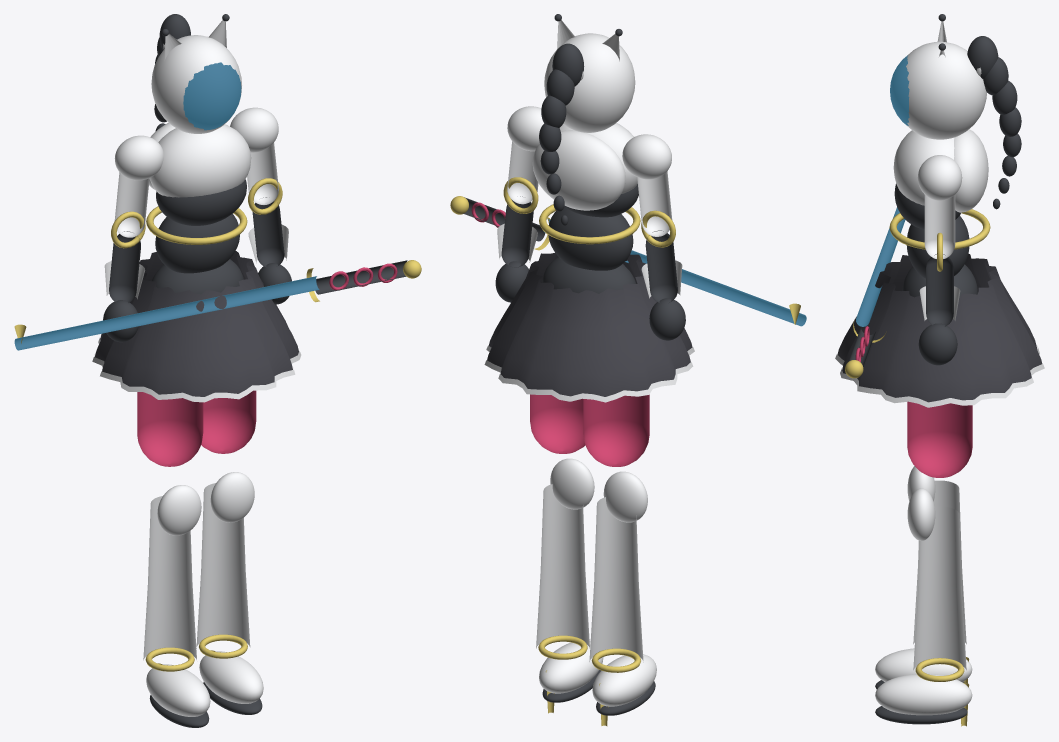
The model's file is soveeta_3d.glb.
The picture shows the model from 3 angles, left to right: view 1: azimuth 30°, elevation 25°; view 2: azimuth 150°, elevation 25°; view 3: azimuth 270°, elevation 25°; orthographic projection.
Parts seen in each view (by area): view 1: skirt, shin_-1, shin_1, chest_plate, thigh_-1, helmet, saya, abdomen, visor, thigh_1, boot_1, boot_-1 (+17 smaller); view 2: skirt, shin_1, shin_-1, helmet, back_plate, thigh_-1, abdomen, thigh_1, boot_-1, hips, boot_1, shoulder_-1 (+23 smaller); view 3: skirt, shin_1, helmet, thigh_1, boot_1, chest_plate, back_plate, forearm_1, upper_arm_1, shoulder_1, boot_-1, skirt_hem (+17 smaller).
Boxes of the visible parts, left/top/right/bottom form: skirt: left=95, top=250, right=298, bottom=396; shin_-1: left=143, top=496, right=196, bottom=660; shin_1: left=196, top=483, right=250, bottom=648; chest_plate: left=149, top=124, right=251, bottom=197; thigh_-1: left=137, top=392, right=203, bottom=466; helmet: left=151, top=35, right=241, bottom=133; saya: left=14, top=276, right=319, bottom=350; abdomen: left=155, top=214, right=239, bottom=273; visor: left=183, top=62, right=241, bottom=130; thigh_1: left=201, top=390, right=256, bottom=453; boot_1: left=199, top=651, right=263, bottom=703; boot_-1: left=146, top=664, right=210, bottom=716; skirt: left=487, top=253, right=692, bottom=396; shin_1: left=536, top=484, right=589, bottom=648; shin_-1: left=589, top=497, right=643, bottom=662; helmet: left=544, top=33, right=635, bottom=132; back_plate: left=532, top=130, right=625, bottom=210; thigh_-1: left=583, top=394, right=649, bottom=466; abdomen: left=548, top=207, right=633, bottom=270; thigh_1: left=530, top=394, right=585, bottom=453; boot_-1: left=592, top=654, right=656, bottom=706; hips: left=542, top=257, right=636, bottom=293; boot_1: left=539, top=641, right=603, bottom=693; shoulder_-1: left=622, top=134, right=671, bottom=179; skirt: left=837, top=253, right=1042, bottom=402; shin_1: left=913, top=506, right=966, bottom=670; helmet: left=906, top=41, right=986, bottom=139; thigh_1: left=907, top=401, right=972, bottom=477; boot_1: left=875, top=674, right=972, bottom=715; chest_plate: left=893, top=130, right=954, bottom=205; back_plate: left=954, top=129, right=988, bottom=212; forearm_1: left=926, top=254, right=953, bottom=326; upper_arm_1: left=924, top=195, right=955, bottom=258; shoulder_1: left=917, top=155, right=962, bottom=200; boot_-1: left=875, top=648, right=972, bottom=682; skirt_hem: left=835, top=346, right=1044, bottom=407.
Size of the model in its own units: 0.9362 by 1.63 by 0.4525.
